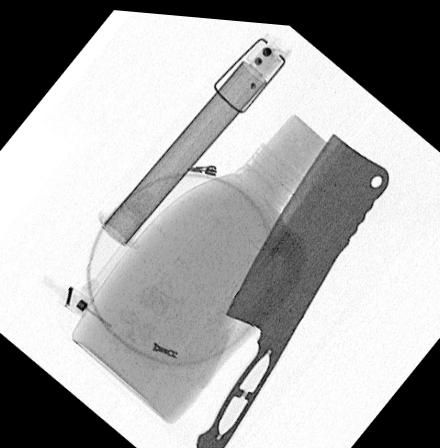Knife: (191, 124, 390, 448)
